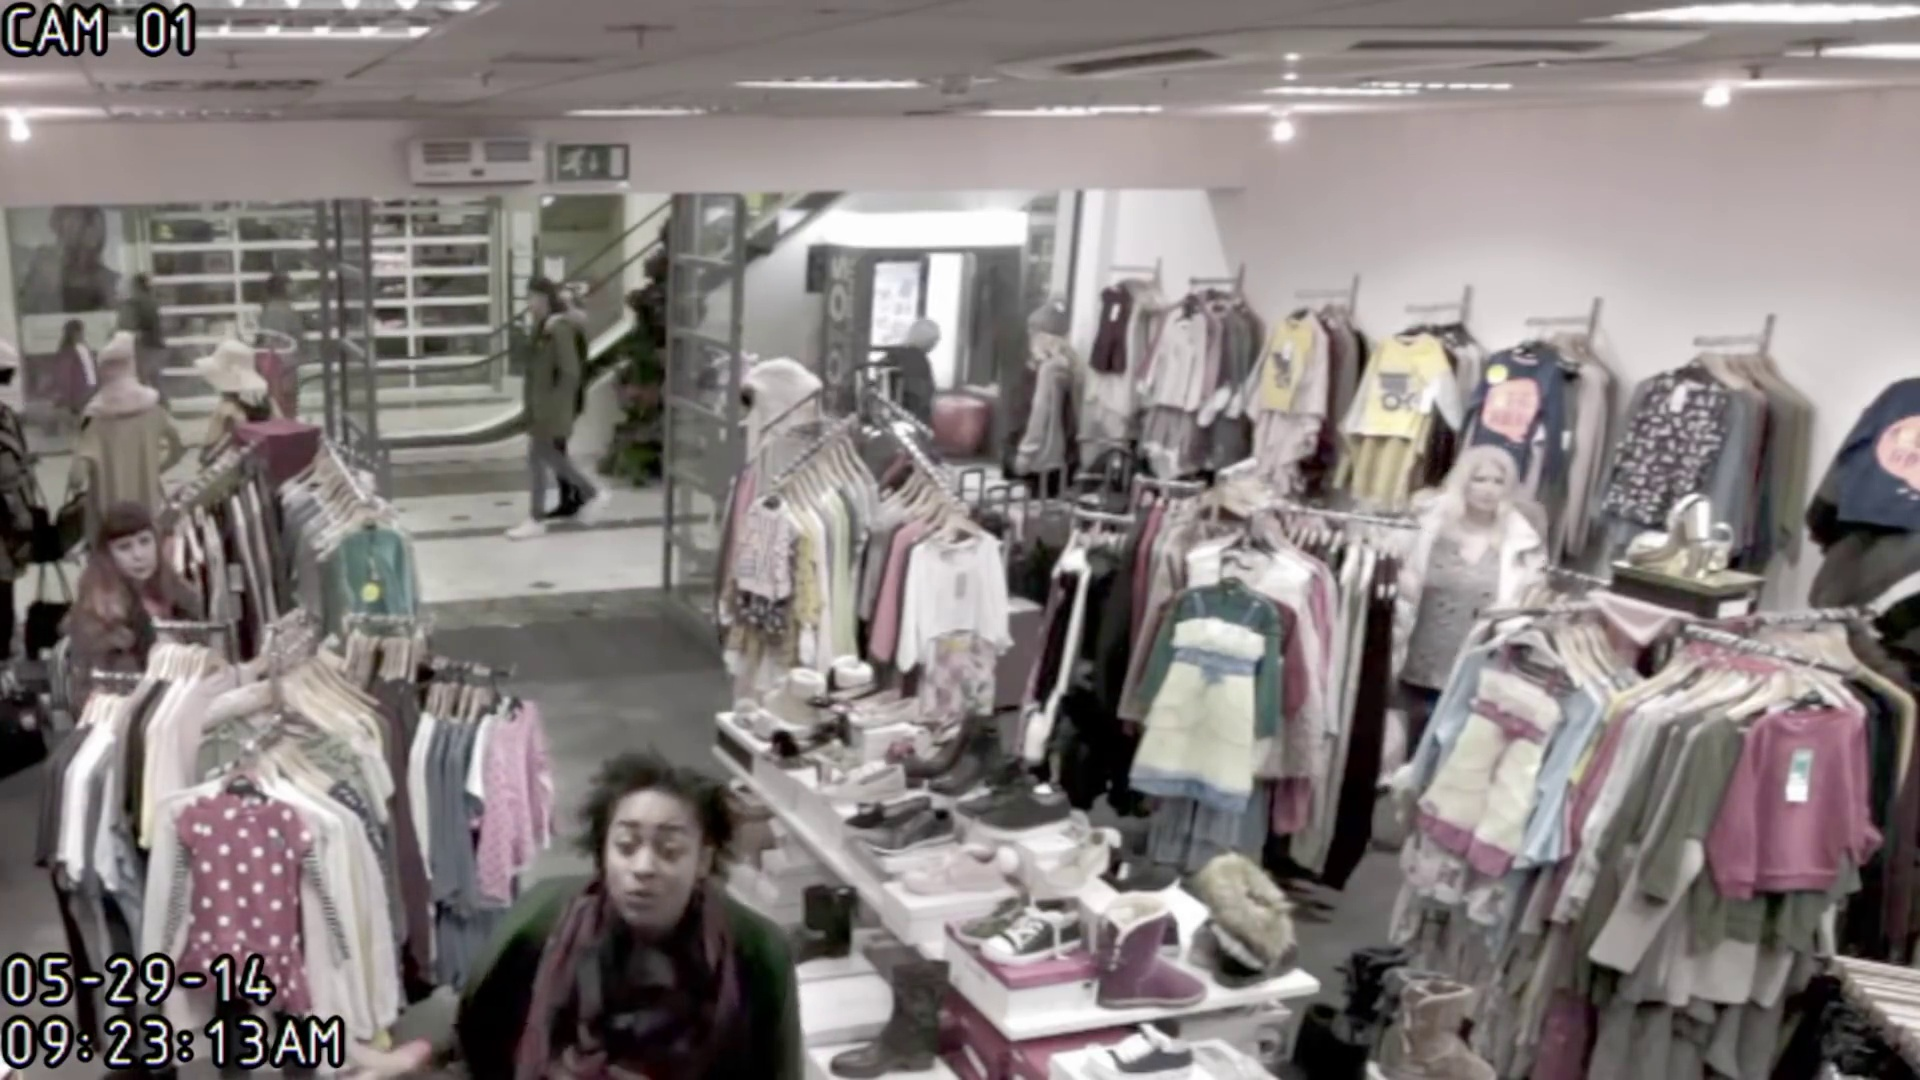face: (600, 798, 698, 920), (104, 531, 157, 578), (1471, 465, 1508, 515)
